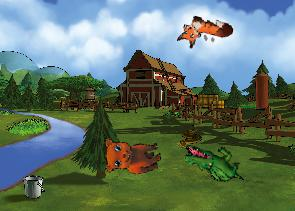bear: (99, 128, 164, 180)
crocodile: (183, 144, 244, 182)
fox: (175, 10, 234, 57)
